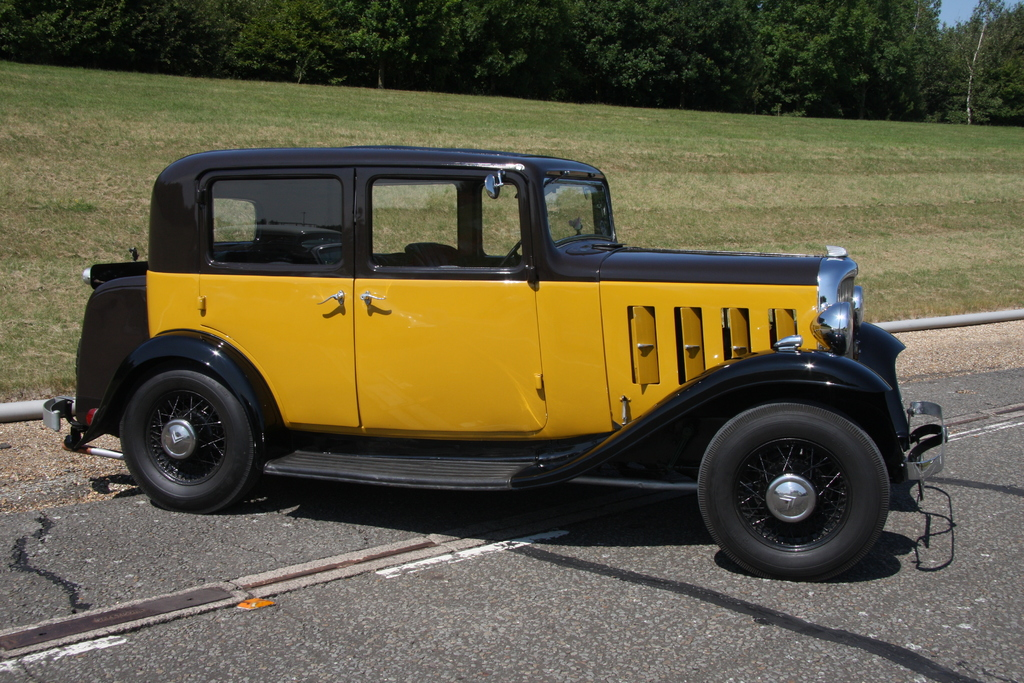mobil: (58, 130, 928, 523)
